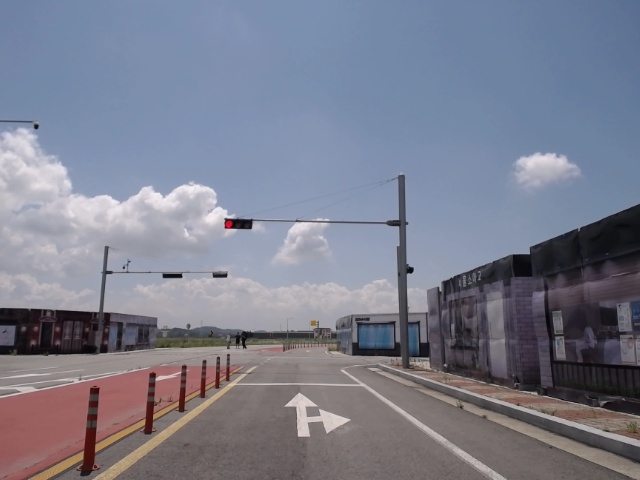red_3: (224, 218, 254, 229)
